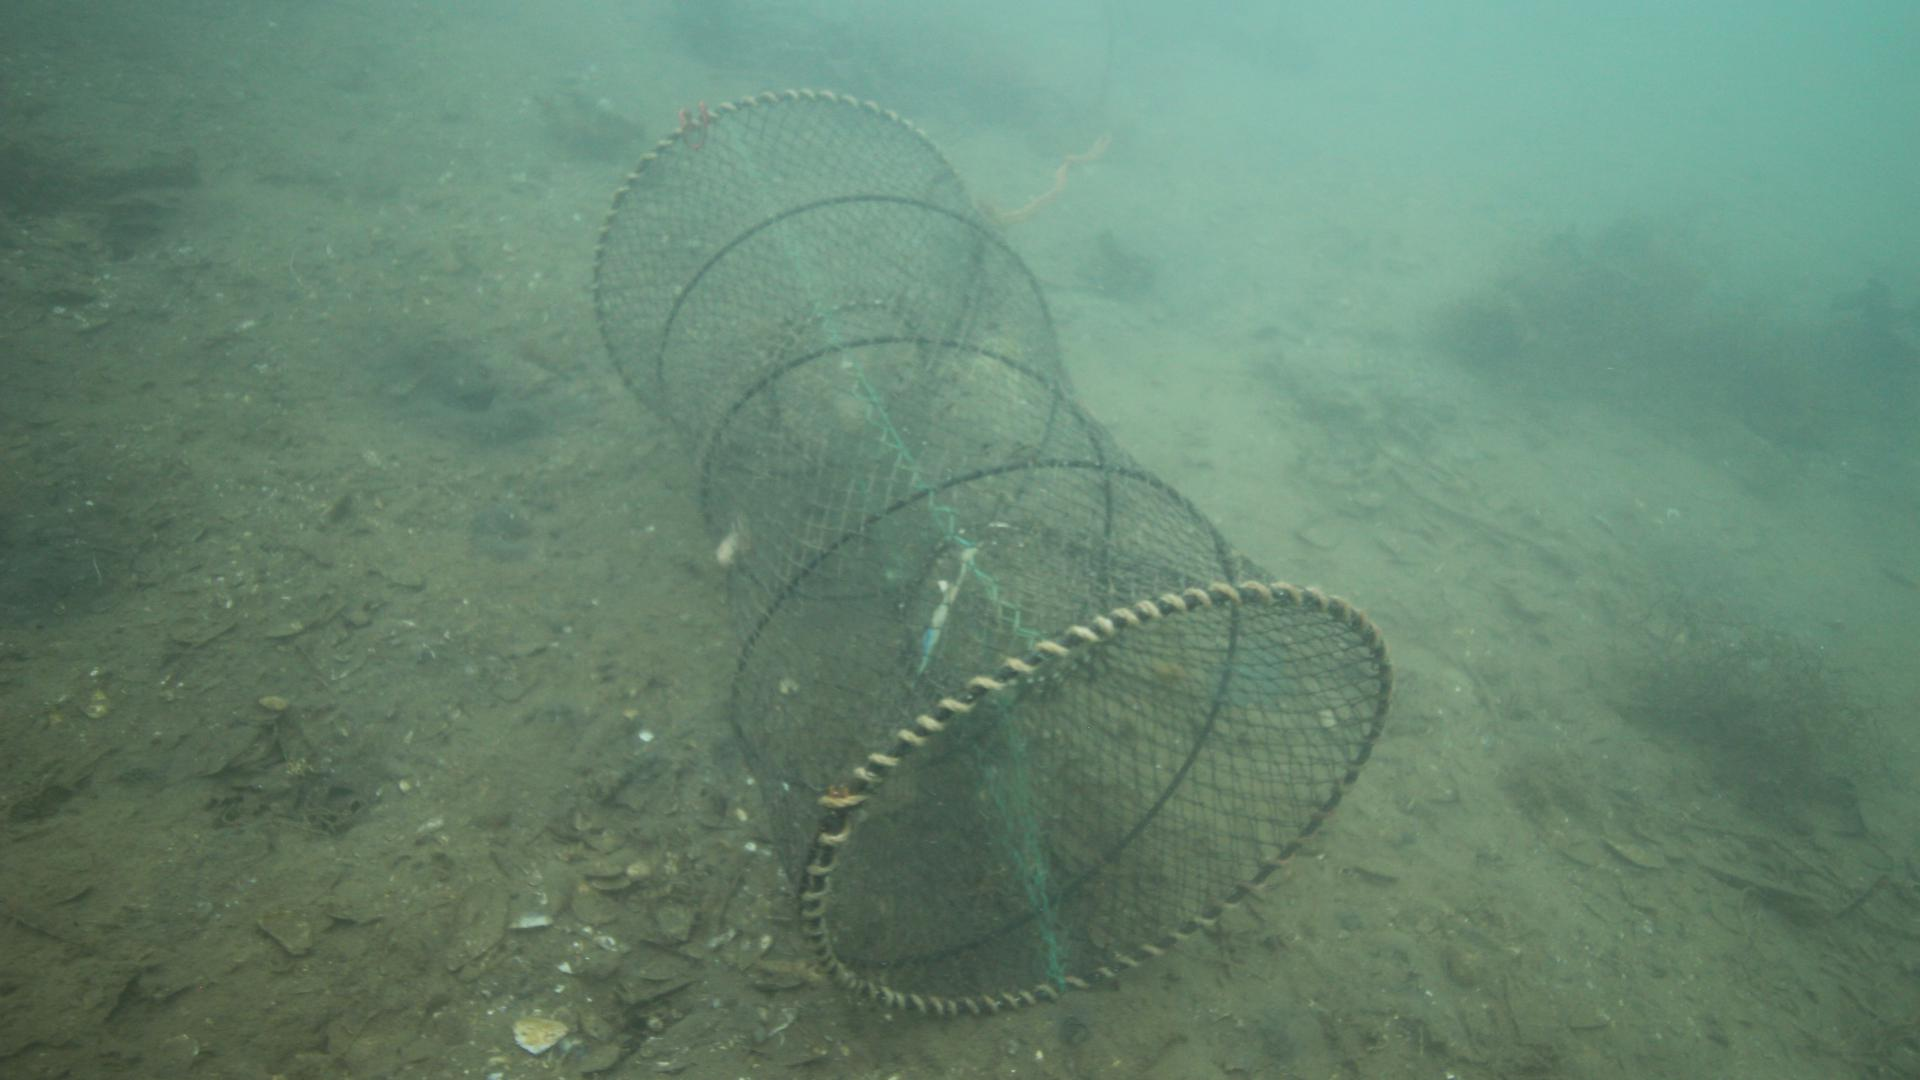bundle of ropes: (1000, 124, 1112, 228)
spring fish trap: (593, 91, 1395, 1015)
